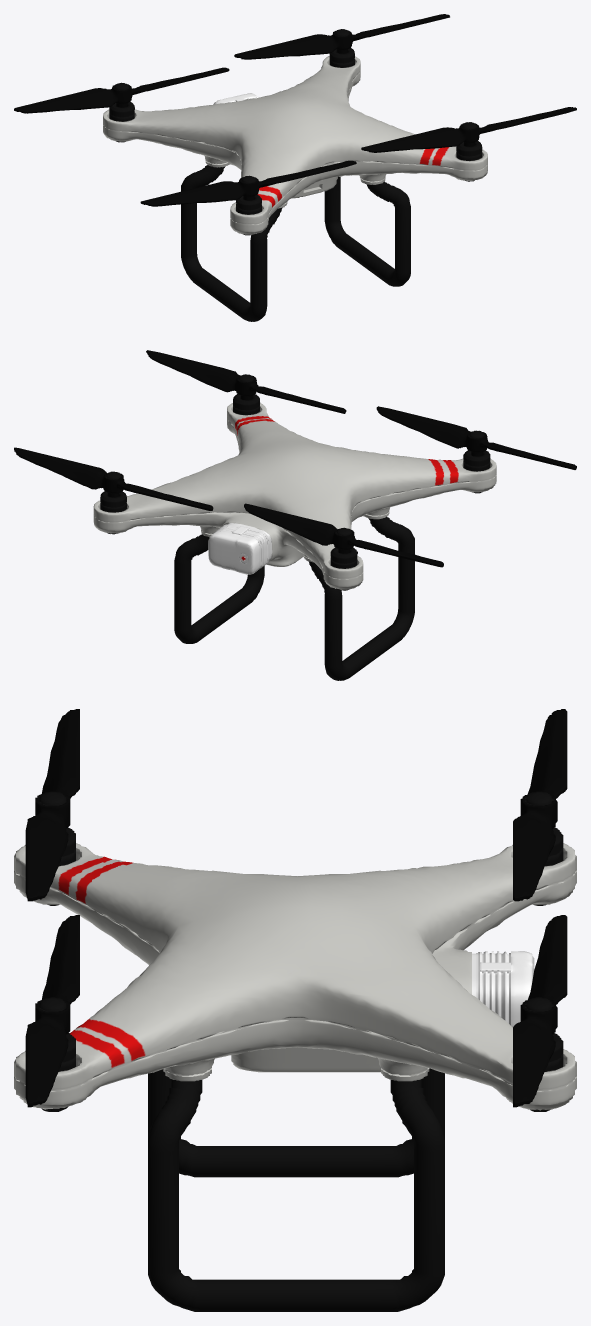
The model's file is satellite.glb.
3 views of the same model, one above another, from view 1: azimuth 30°, elevation 25°; view 2: azimuth 150°, elevation 25°; view 3: azimuth 270°, elevation 25° (orthographic). The views are drawn at different scales.
Size of the model in its own units: 0.4819 by 0.1964 by 0.2906.
Materials: 5 (1 with a texture image).
